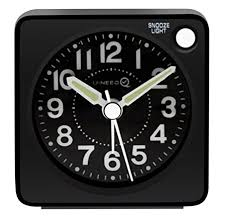alarm_clock: (11, 6, 207, 208), (11, 10, 207, 208), (12, 10, 207, 208)
